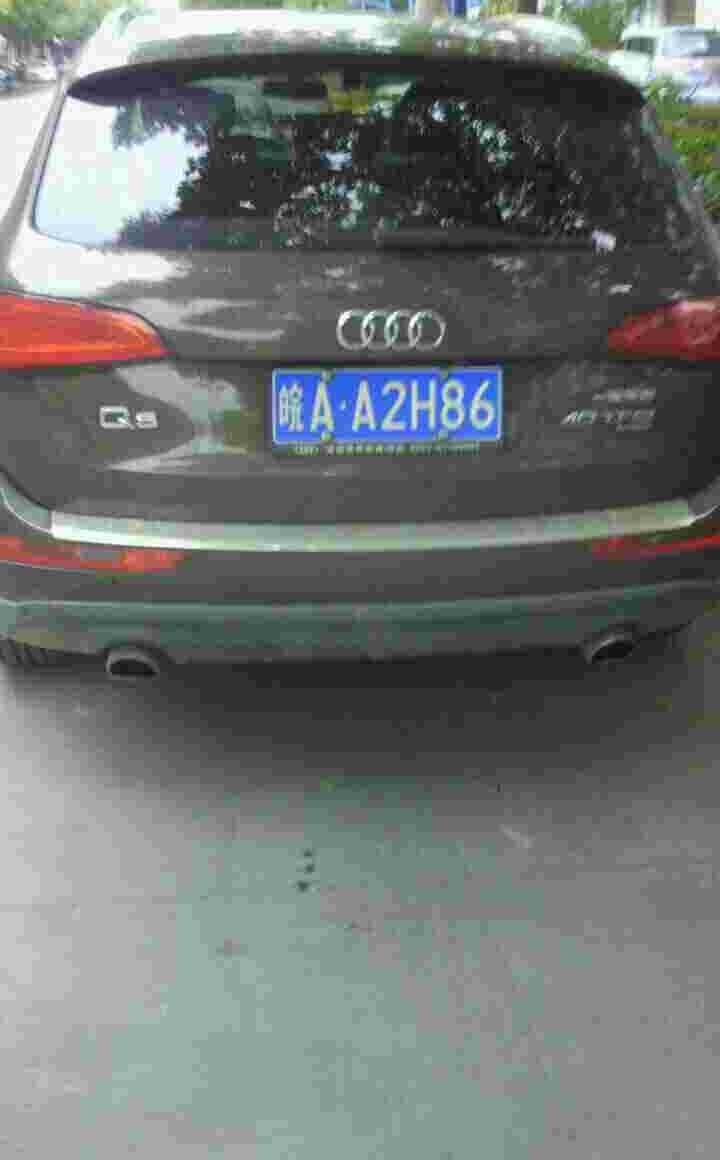license_plate: (280, 371, 515, 447)
